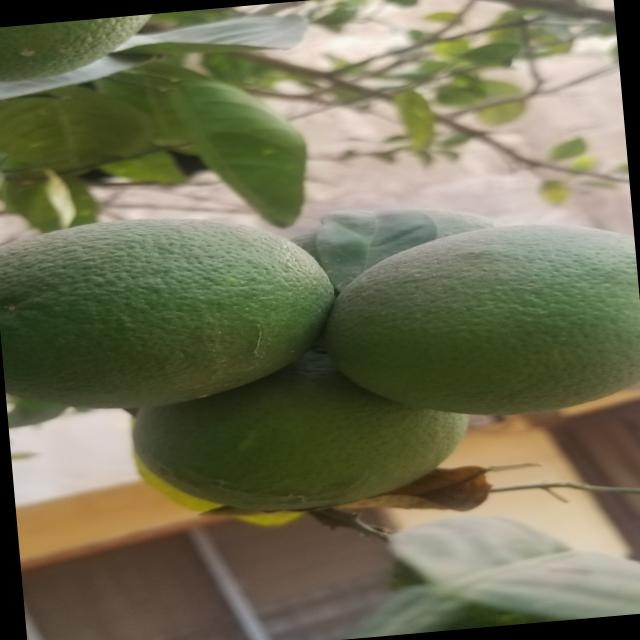agrume: (309, 206, 640, 434), (0, 199, 339, 416), (123, 360, 474, 532), (0, 13, 163, 83)
